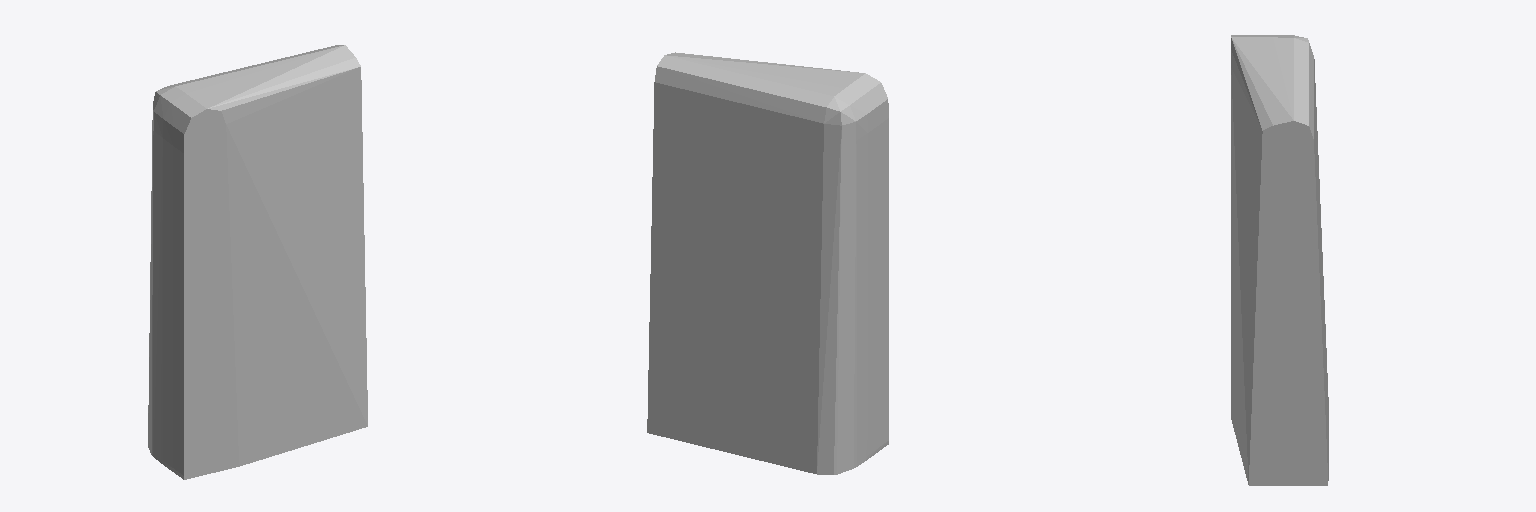
Rendered from ShipScene_collision_33.obj.
3 views of the same model, side by side, from view 1: azimuth 30°, elevation 25°; view 2: azimuth 150°, elevation 25°; view 3: azimuth 270°, elevation 25° (orthographic).
Bounding box in the file's own units: 54.15 × 97.96 × 23.71.